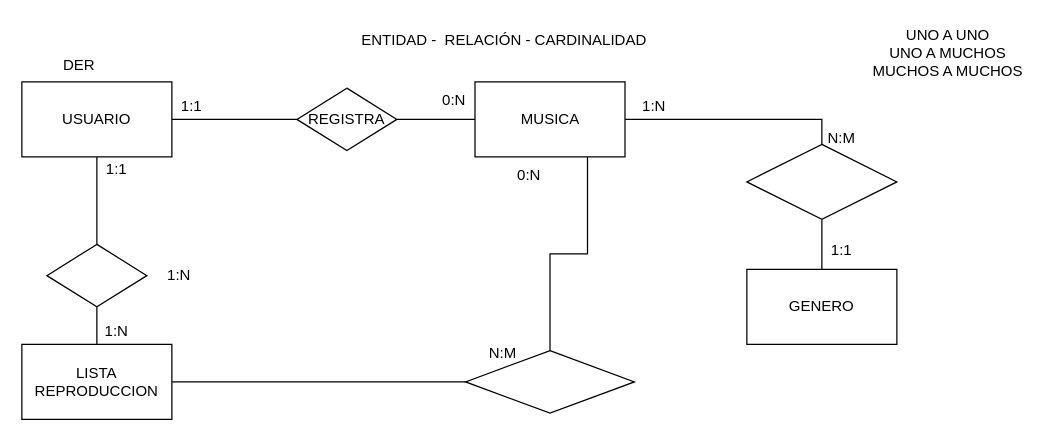
Image size: 1051x441. Some labels were removed from this diagram. Here are the shapes that lost their labels. From the top down, the box of each, then its label:
(746, 143, 897, 219): PERTENECE
(46, 243, 147, 307): CREA
(464, 349, 634, 413): CONTIENE
